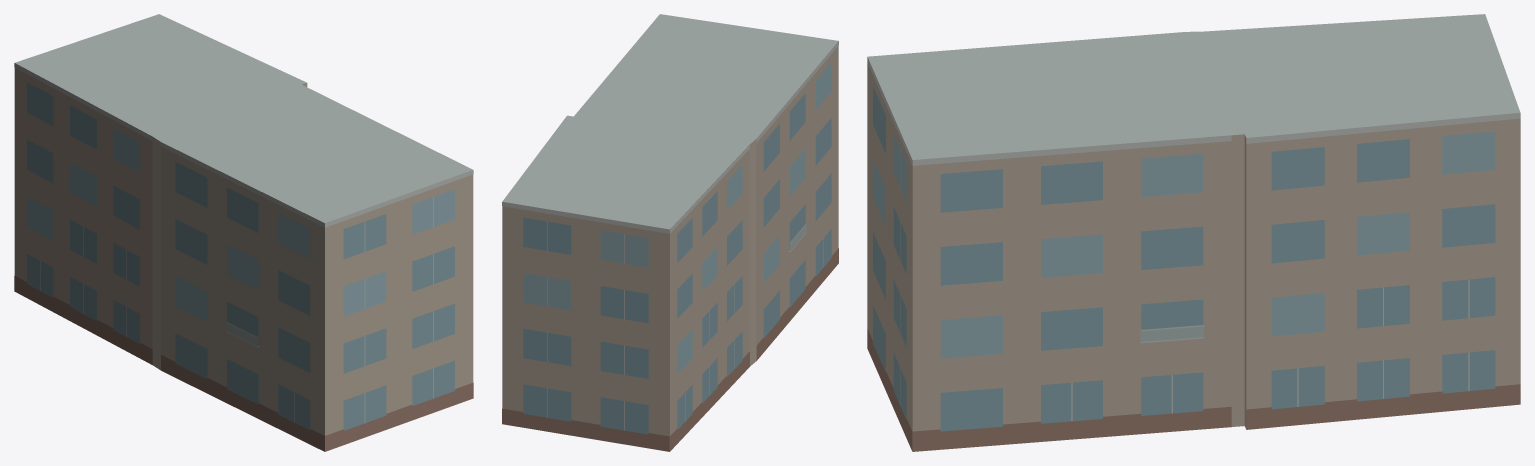
File: survey-upis-32780340.glb
The picture shows the model from 3 angles, left to right: view 1: azimuth 30°, elevation 25°; view 2: azimuth 150°, elevation 25°; view 3: azimuth 270°, elevation 25°; orthographic projection. The views are drawn at different scales.
Visible parts, largest first — view 1: survey-upis-32780340.tmp; view 2: survey-upis-32780340.tmp; view 3: survey-upis-32780340.tmp.
Boxes of the visible parts, x1,y1,x2,y2 form: survey-upis-32780340.tmp: (14,14,473,451); survey-upis-32780340.tmp: (502,14,838,451); survey-upis-32780340.tmp: (867,14,1520,451).
Size of the model in its own units: 13.11 by 12.2 by 24.76.
